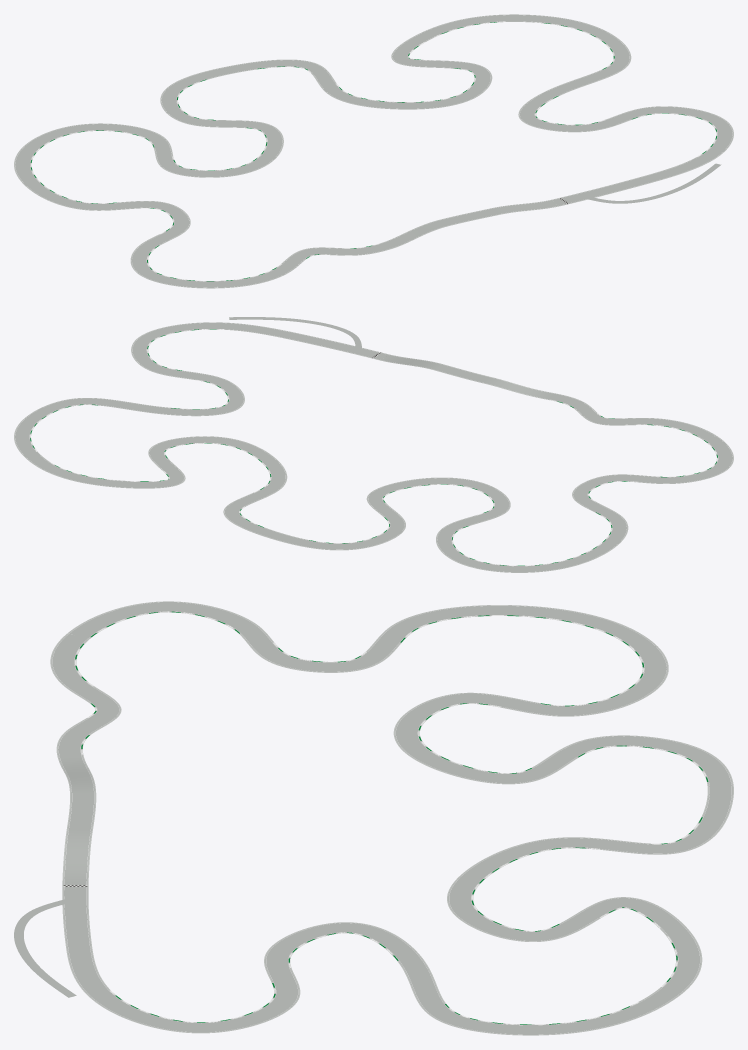
The model's file is circuit_surface.glb.
3 views of the same model, one above another, from view 1: azimuth 30°, elevation 25°; view 2: azimuth 150°, elevation 25°; view 3: azimuth 270°, elevation 25° (orthographic). The views are drawn at different scales.
Visible parts, largest first — view 1: ribbon-darkgrey, road-shoulder-stone, edge-line-white, kerb-white, kerb-green, pit-lane-darkgrey; view 2: ribbon-darkgrey, road-shoulder-stone, edge-line-white, kerb-green, kerb-white, pit-lane-darkgrey; view 3: ribbon-darkgrey, road-shoulder-stone, edge-line-white, kerb-white, kerb-green, pit-lane-darkgrey.
Boxes of the visible parts, x1,y1,x2,y2 form: ribbon-darkgrey: (15,14,732,287); road-shoulder-stone: (14,14,733,288); edge-line-white: (15,15,732,287); kerb-white: (30,21,717,281); kerb-green: (30,22,716,281); pit-lane-darkgrey: (579,163,721,203); ribbon-darkgrey: (15,322,732,572); road-shoulder-stone: (14,322,733,572); edge-line-white: (15,322,732,572); kerb-green: (30,329,717,565); kerb-white: (30,329,717,565); pit-lane-darkgrey: (229,317,361,351); ribbon-darkgrey: (51,602,732,1034); road-shoulder-stone: (50,601,733,1035); edge-line-white: (52,602,731,1034); kerb-white: (75,611,706,1024); kerb-green: (75,611,708,1024); pit-lane-darkgrey: (14,896,80,997).
Bounding box in the file's own units: 521 × 4.04 × 365.
